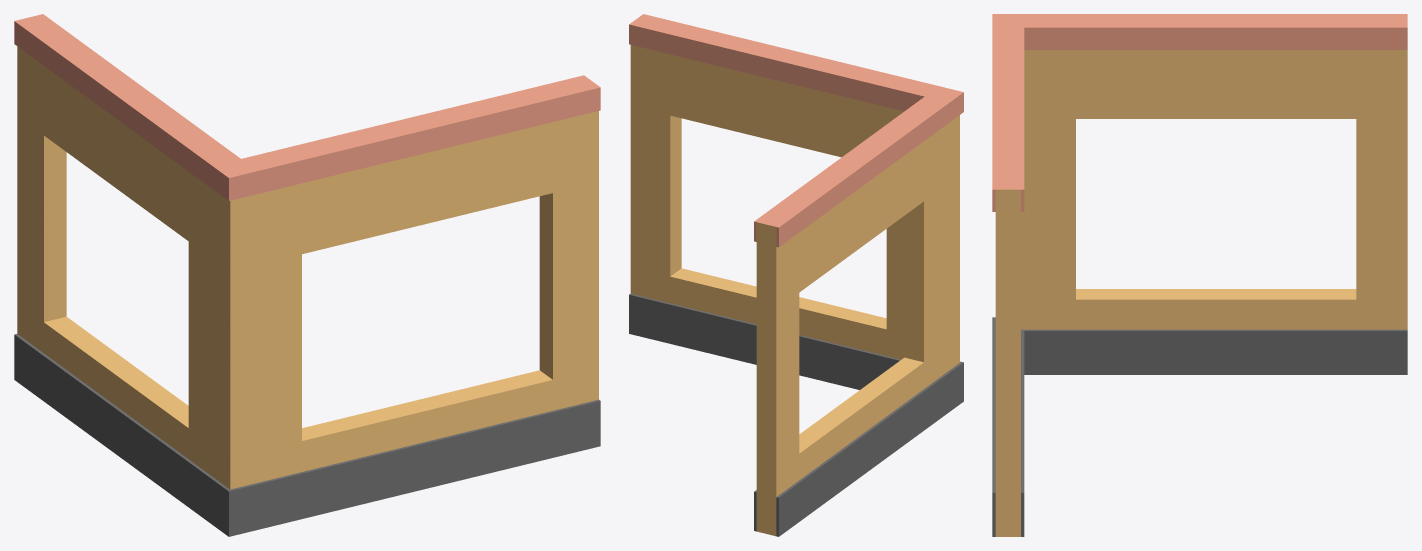
Rendered from Wall05-05.fbx.
3 renders of one model, left to right at view 1: azimuth 30°, elevation 25°; view 2: azimuth 150°, elevation 25°; view 3: azimuth 270°, elevation 25°, orthographic. The views are drawn at different scales.
Visible parts, largest first — view 1: Wall05-05; view 2: Wall05-05; view 3: Wall05-05.
Boxes of the visible parts, <box> form: Wall05-05: <box>14,14,600,536</box>; Wall05-05: <box>629,14,963,536</box>; Wall05-05: <box>992,14,1407,536</box>.
Bounding box in the file's own units: 3.25 × 3.25 × 3.
